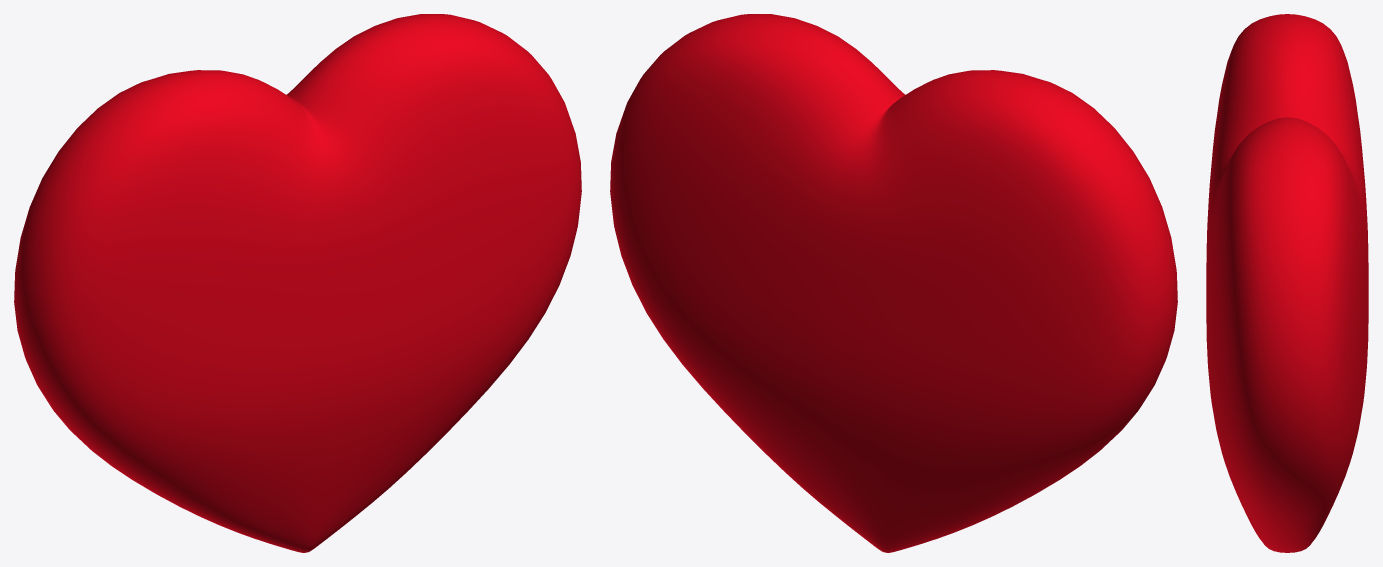
The picture shows the model from 3 angles, left to right: view 1: azimuth 30°, elevation 25°; view 2: azimuth 150°, elevation 25°; view 3: azimuth 270°, elevation 25°; orthographic projection. The views are drawn at different scales.
Visible parts, largest first — view 1: heart; view 2: heart; view 3: heart.
Part boxes in pixels (x1,y1,x2,y2): heart: [14, 14, 581, 552]; heart: [610, 14, 1177, 552]; heart: [1206, 14, 1368, 552].
Size of the model in its own units: 1.3 by 1.13 by 0.3524.
